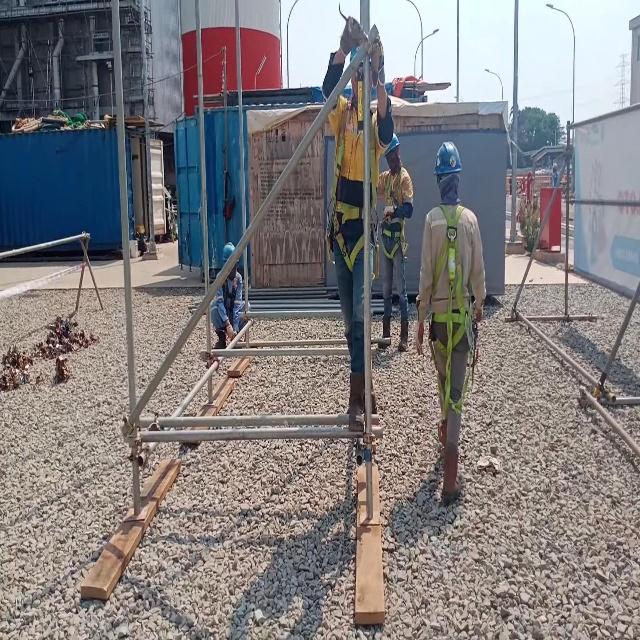Arnes_seguridad: (429, 201, 477, 428), (324, 97, 377, 273), (378, 168, 408, 261), (223, 278, 240, 323)
